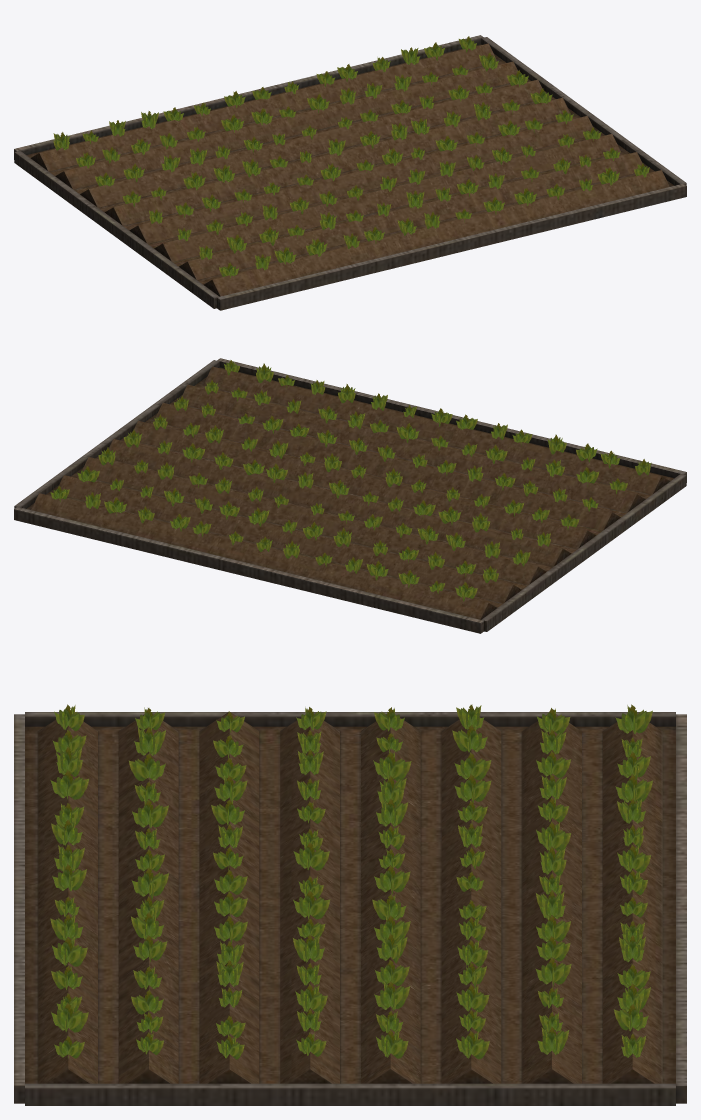
The model's file is farm_field.glb.
3 renders of one model, top to bottom at view 1: azimuth 30°, elevation 25°; view 2: azimuth 150°, elevation 25°; view 3: azimuth 270°, elevation 25°, orthographic. The views are drawn at different scales.
Parts seen in each view (by area): view 1: farm_field; view 2: farm_field; view 3: farm_field.
Boxes of the visible parts, x1,y1,x2,y2 form: farm_field: [14, 35, 686, 310]; farm_field: [14, 358, 686, 633]; farm_field: [14, 704, 686, 1105].
Bounding box in the file's own units: 8.2 × 0.8491 × 6.2.
Materials: 2 (2 with a texture image).
